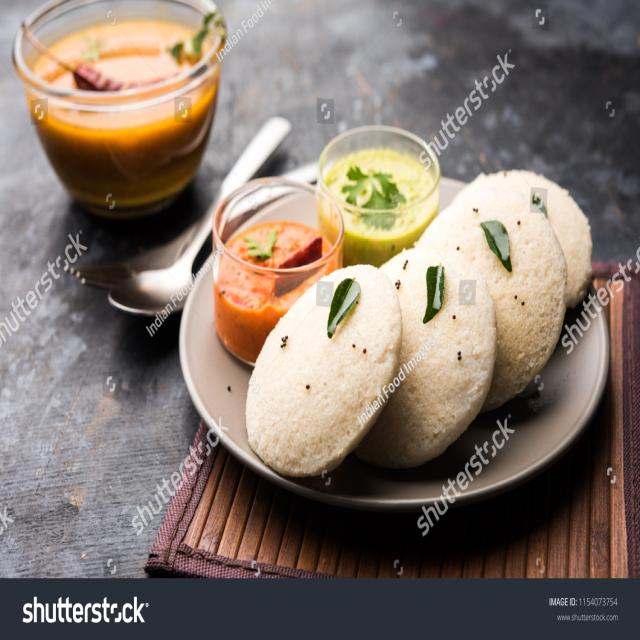IDLI: (411, 159, 594, 411), (240, 259, 404, 477), (356, 247, 495, 472)
